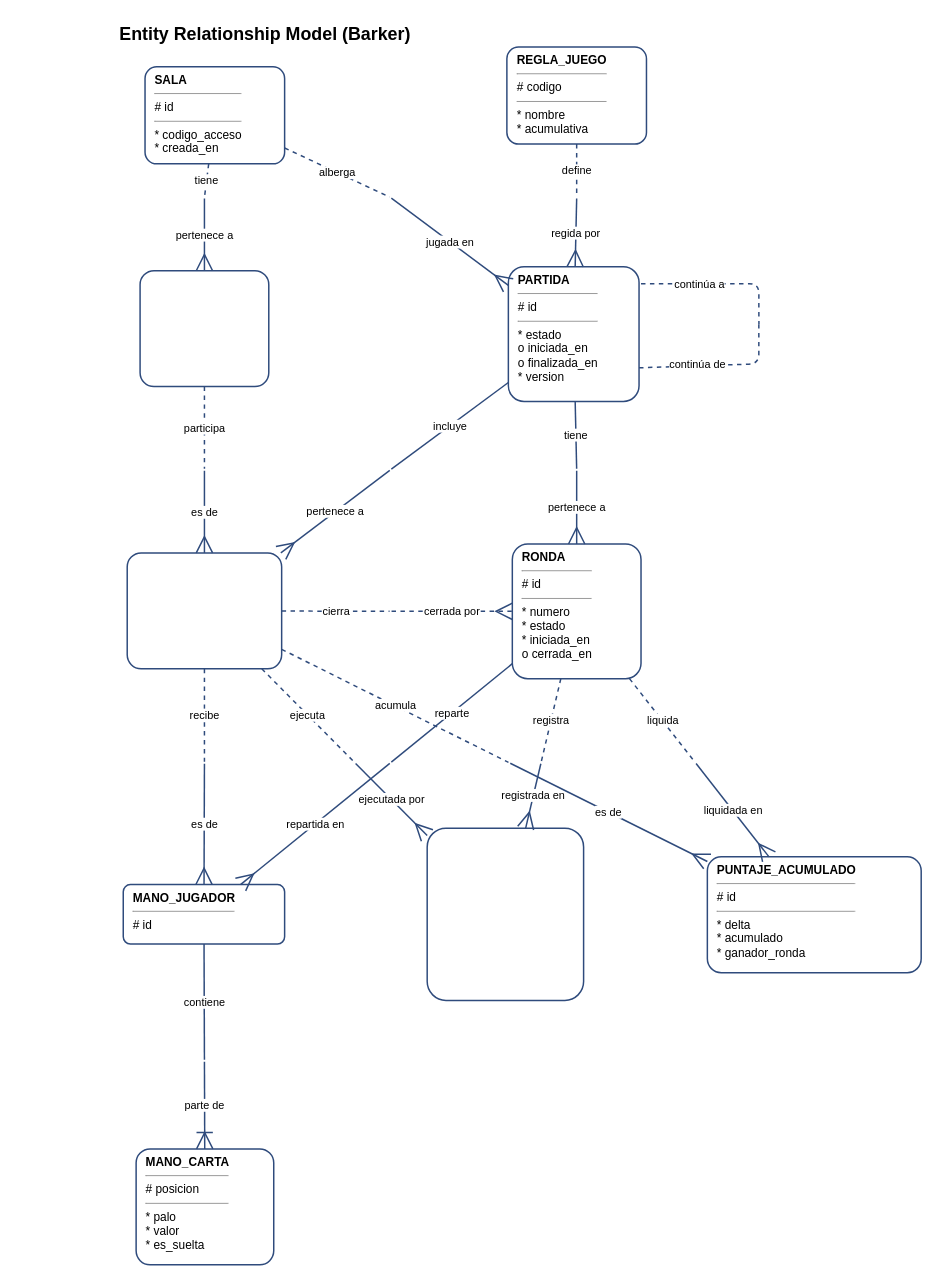
Some shapes in this 939 by 1282 pixel diagram are drawn without their labels. The box of each missing label's shape, as (x1, y1, x2, y2) in pixels:
JUGADOR # id * alias * token_hash * es_admin: (139, 270, 269, 387)
PARTICIPACION # id * orden_turno * estado * puntaje_inicial: (126, 552, 282, 669)
TURNO_JUGADA # id * secuencia * accion o palo o valor * valida * registrada_en: (426, 827, 584, 1001)
